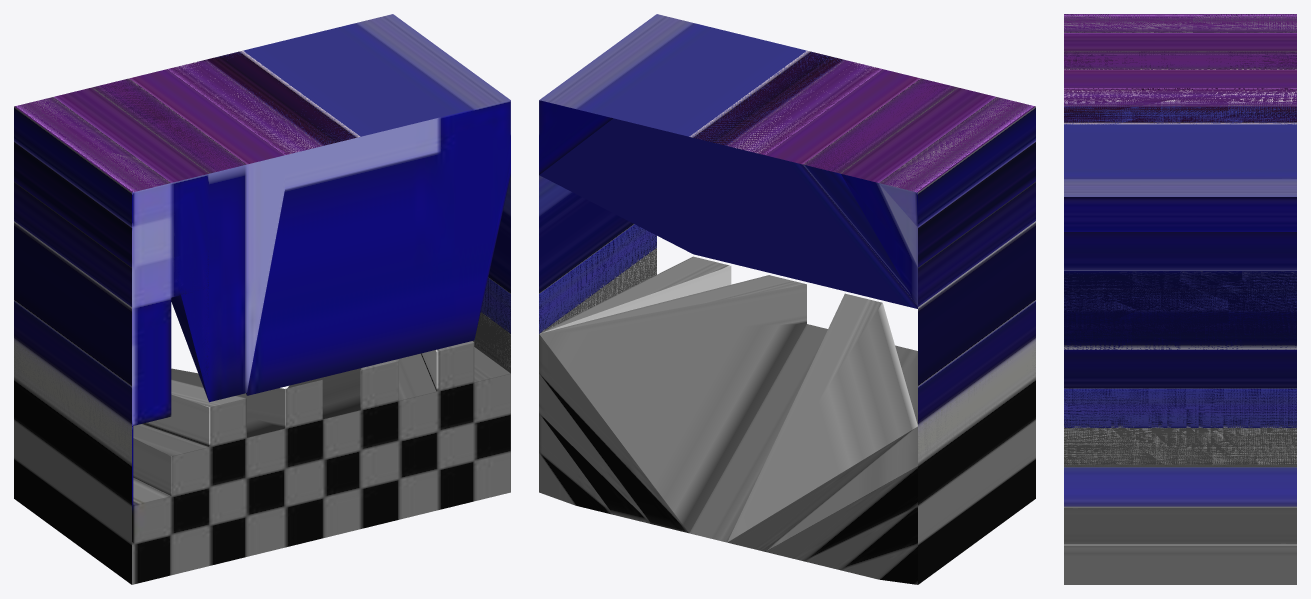
Rendered from ponyrunningbackwardsoutofbounds.glb.
3 renders of one model, left to right at view 1: azimuth 30°, elevation 25°; view 2: azimuth 150°, elevation 25°; view 3: azimuth 270°, elevation 25°, orthographic.
Parts seen in each view (by area): view 1: pony; view 2: pony; view 3: pony.
Boxes of the visible parts, x1,y1,x2,y2 form: pony: (14, 14, 510, 584); pony: (539, 14, 1035, 584); pony: (1064, 14, 1296, 584).
Bounding box in the file's own units: 0.6248 × 0.6248 × 0.3362.
1 material, 1 textured.
